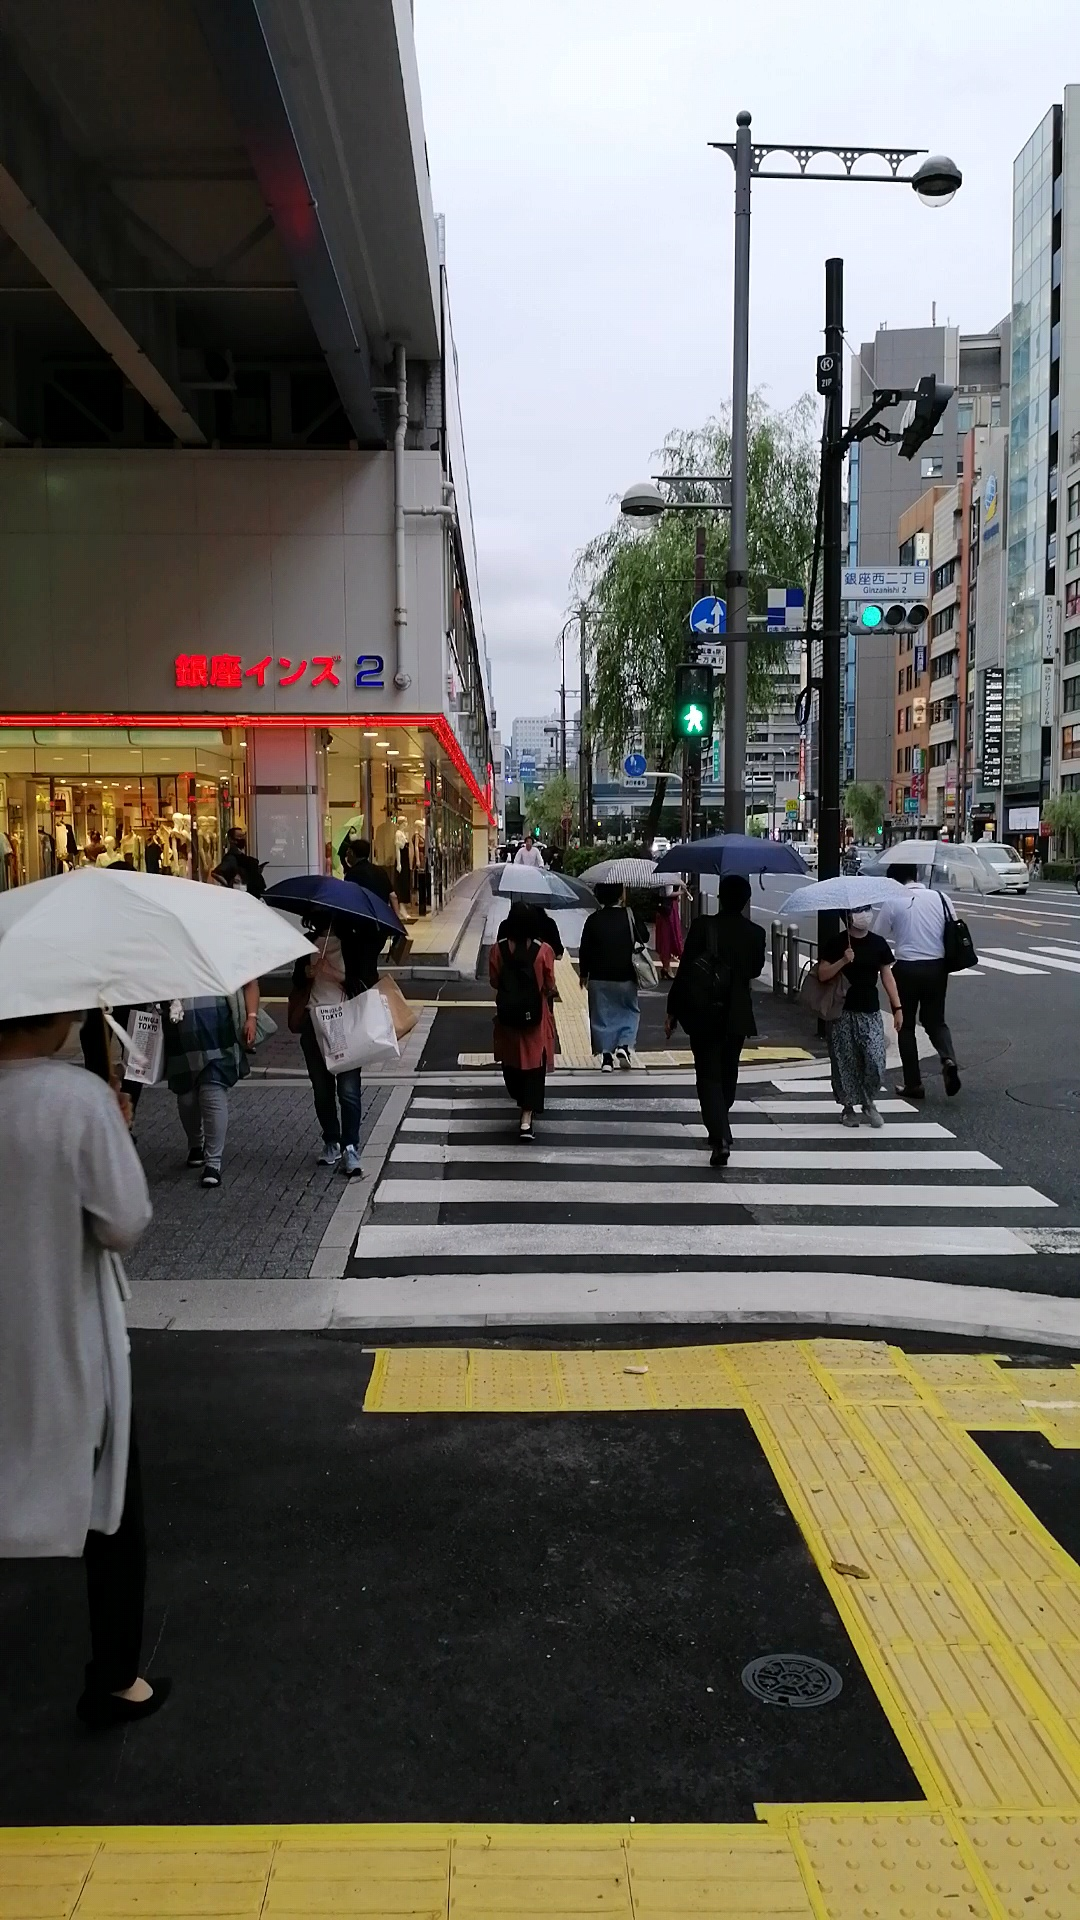green: (670, 665, 716, 746)
